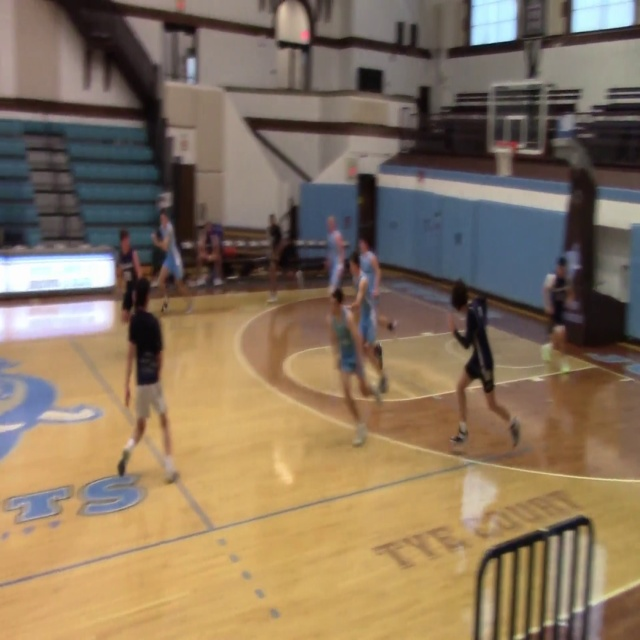Basketball: (373, 343, 382, 357), (387, 319, 397, 330)
